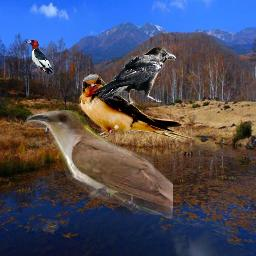Crow: (92, 46, 176, 107)
Cuckoo: (24, 110, 173, 220)
Swallow: (78, 74, 195, 146)
Woodpecker: (24, 38, 54, 74)
